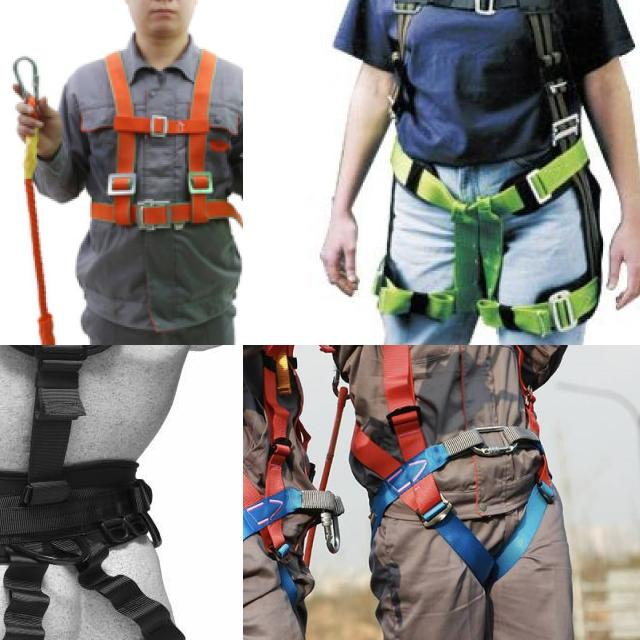Harness: (379, 0, 602, 338), (0, 345, 185, 640), (341, 345, 544, 597), (82, 46, 236, 290), (243, 368, 344, 586)
